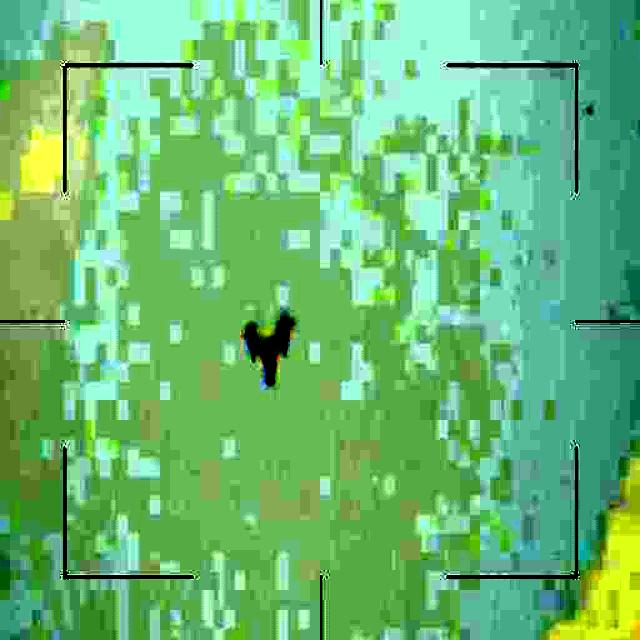bird: (242, 312, 296, 385)
